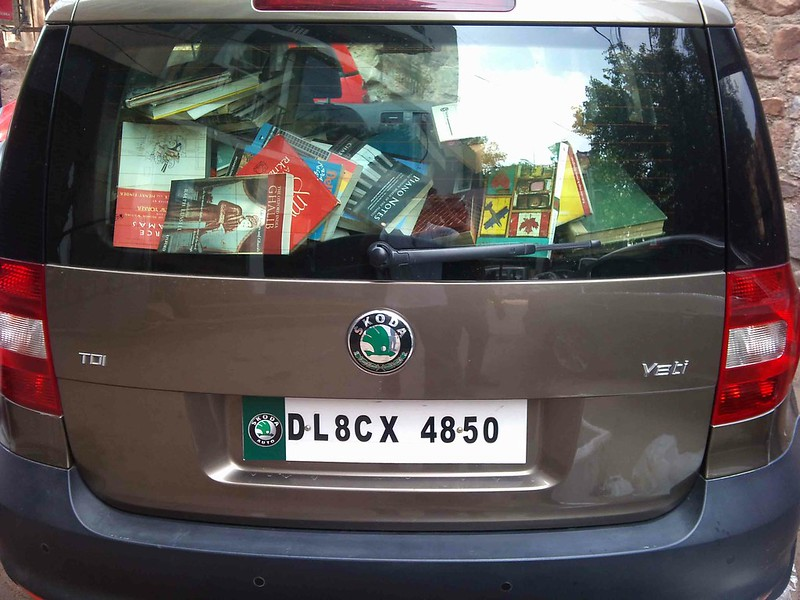number_plate: (238, 391, 541, 471)
